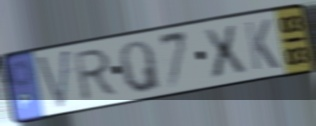7: (158, 27, 189, 92)
K: (243, 17, 281, 73)
Q: (117, 38, 164, 95)
R: (73, 46, 120, 105)
V: (35, 47, 72, 113)
X: (199, 22, 250, 82)
